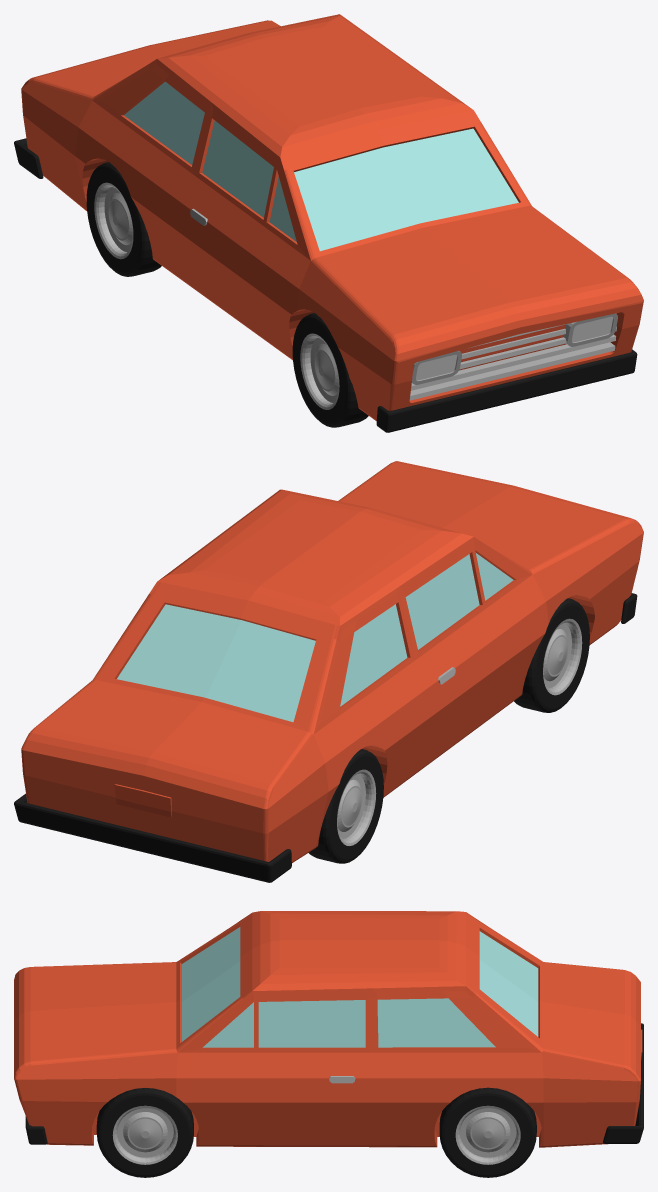
File: Car01.fbx
3 views of the same model, one above another, from view 1: azimuth 30°, elevation 25°; view 2: azimuth 150°, elevation 25°; view 3: azimuth 270°, elevation 25° (orthographic). The views are drawn at different scales.
Visible parts, largest first — view 1: CarBody, Wheel, BumperFront, Grill, CarLights, BumperBack; view 2: CarBody, Wheel, BumperBack; view 3: CarBody, Wheel, BumperBack, BumperFront.
Boxes of the visible parts, x1,y1,x2,y2 form: CarBody: (21, 14, 643, 420); Wheel: (86, 162, 368, 427); BumperFront: (376, 349, 637, 432); Grill: (409, 324, 616, 400); CarLights: (412, 313, 617, 384); BumperBack: (14, 138, 43, 178); CarBody: (21, 461, 643, 862); Wheel: (308, 598, 589, 863); BumperBack: (14, 793, 291, 882); CarBody: (14, 911, 642, 1147); Wheel: (96, 1087, 536, 1177); BumperBack: (603, 1023, 643, 1143); BumperFront: (25, 1116, 47, 1144).
Size of the model in its own units: 160 by 136 by 408.
